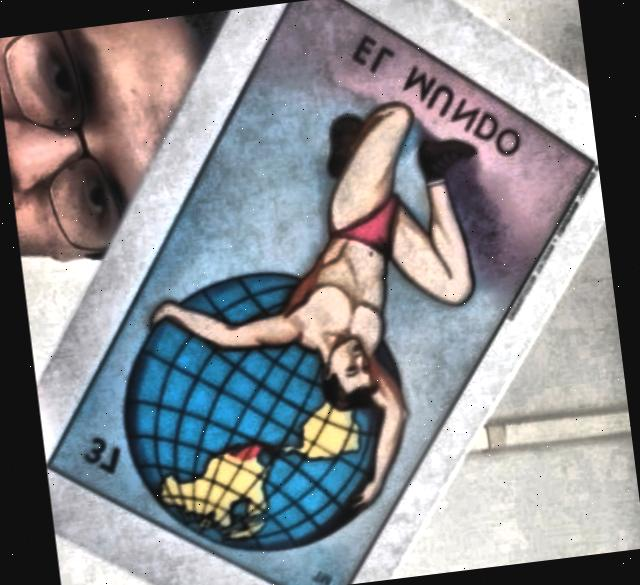El Mundo: (51, 0, 597, 585)
